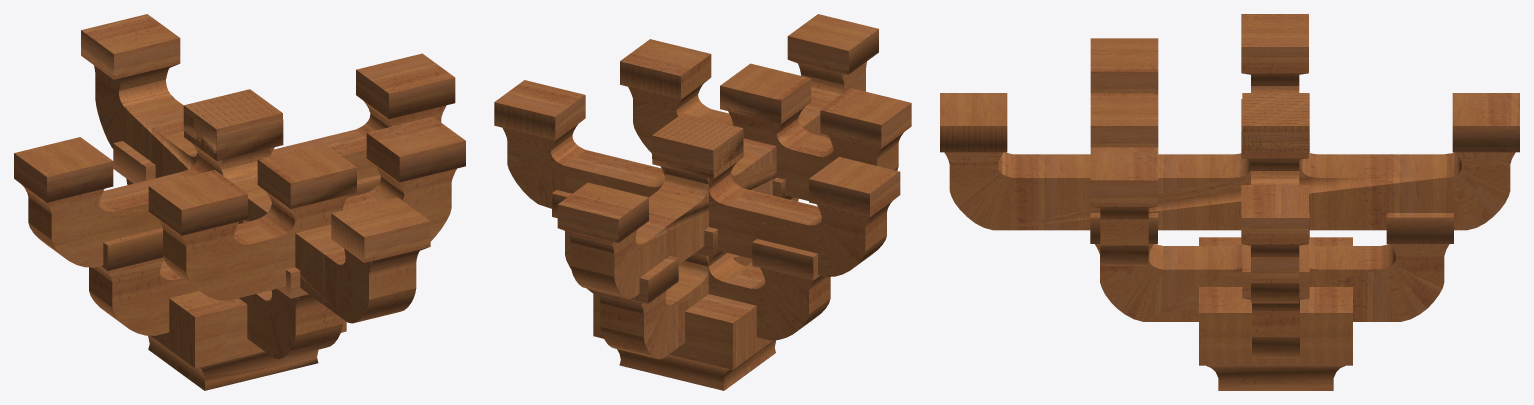
3 renders of one model, left to right at view 1: azimuth 30°, elevation 25°; view 2: azimuth 150°, elevation 25°; view 3: azimuth 270°, elevation 25°, orthographic. The views are drawn at different scales.
Parts seen in each view (by area): view 1: R3L2; view 2: R3L2; view 3: R3L2.
Part boxes in pixels (x1=…): R3L2: x1=14, y1=14, x2=465, y2=390; R3L2: x1=494, y1=14, x2=911, y2=390; R3L2: x1=940, y1=14, x2=1519, y2=390.
Bounding box in the file's own units: 32.36 × 18.71 × 38.85.
Materials: 1 (1 with a texture image).
